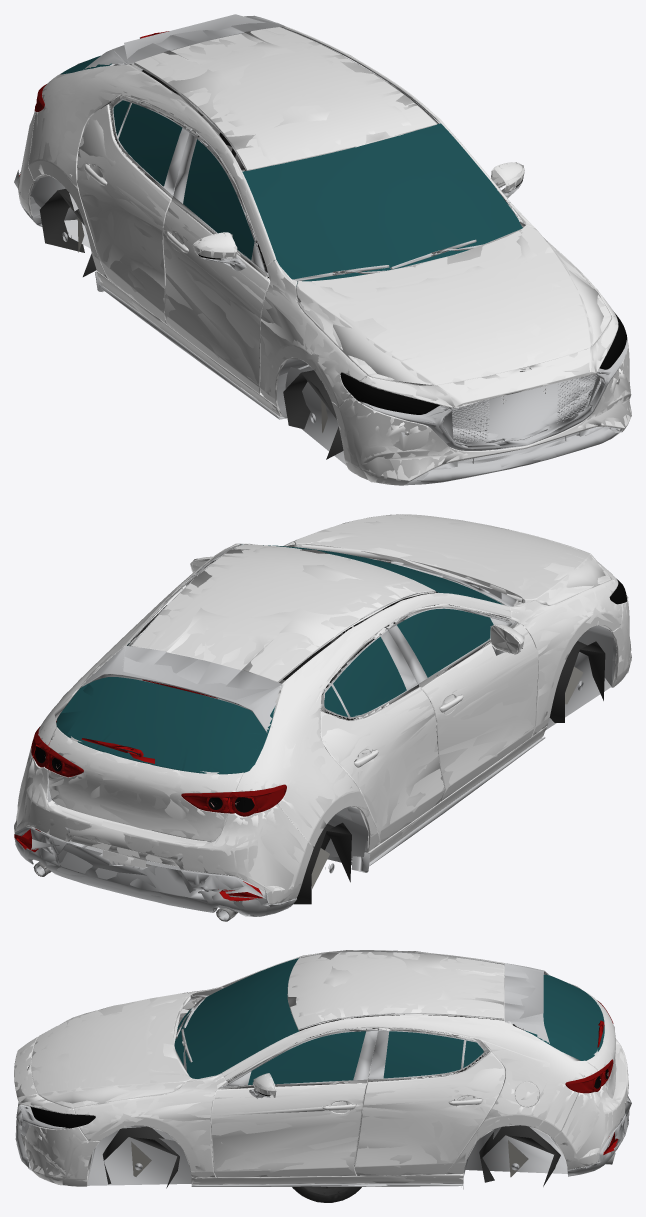
File: hatch1.glb
3 renders of one model, top to bottom at view 1: azimuth 30°, elevation 25°; view 2: azimuth 150°, elevation 25°; view 3: azimuth 270°, elevation 25°, orthographic. The views are drawn at different scales.
Visible parts, largest first — view 1: body0, body1, body2; view 2: body0, body1, body2; view 3: body0, body1, body2, wheel0, wheel1.
Part boxes in pixels (x1,y1,x2,y2): body0: [17, 15, 631, 485]; body1: [17, 22, 631, 485]; body2: [14, 14, 631, 482]; body0: [14, 514, 631, 921]; body1: [14, 514, 631, 920]; body2: [15, 521, 631, 916]; body0: [14, 950, 628, 1189]; body1: [14, 950, 629, 1186]; body2: [16, 950, 631, 1188]; wheel0: [295, 1187, 361, 1202]; wheel1: [292, 1187, 360, 1202].
Bounding box in the file's own units: 2.09 × 1.75 × 4.48.
